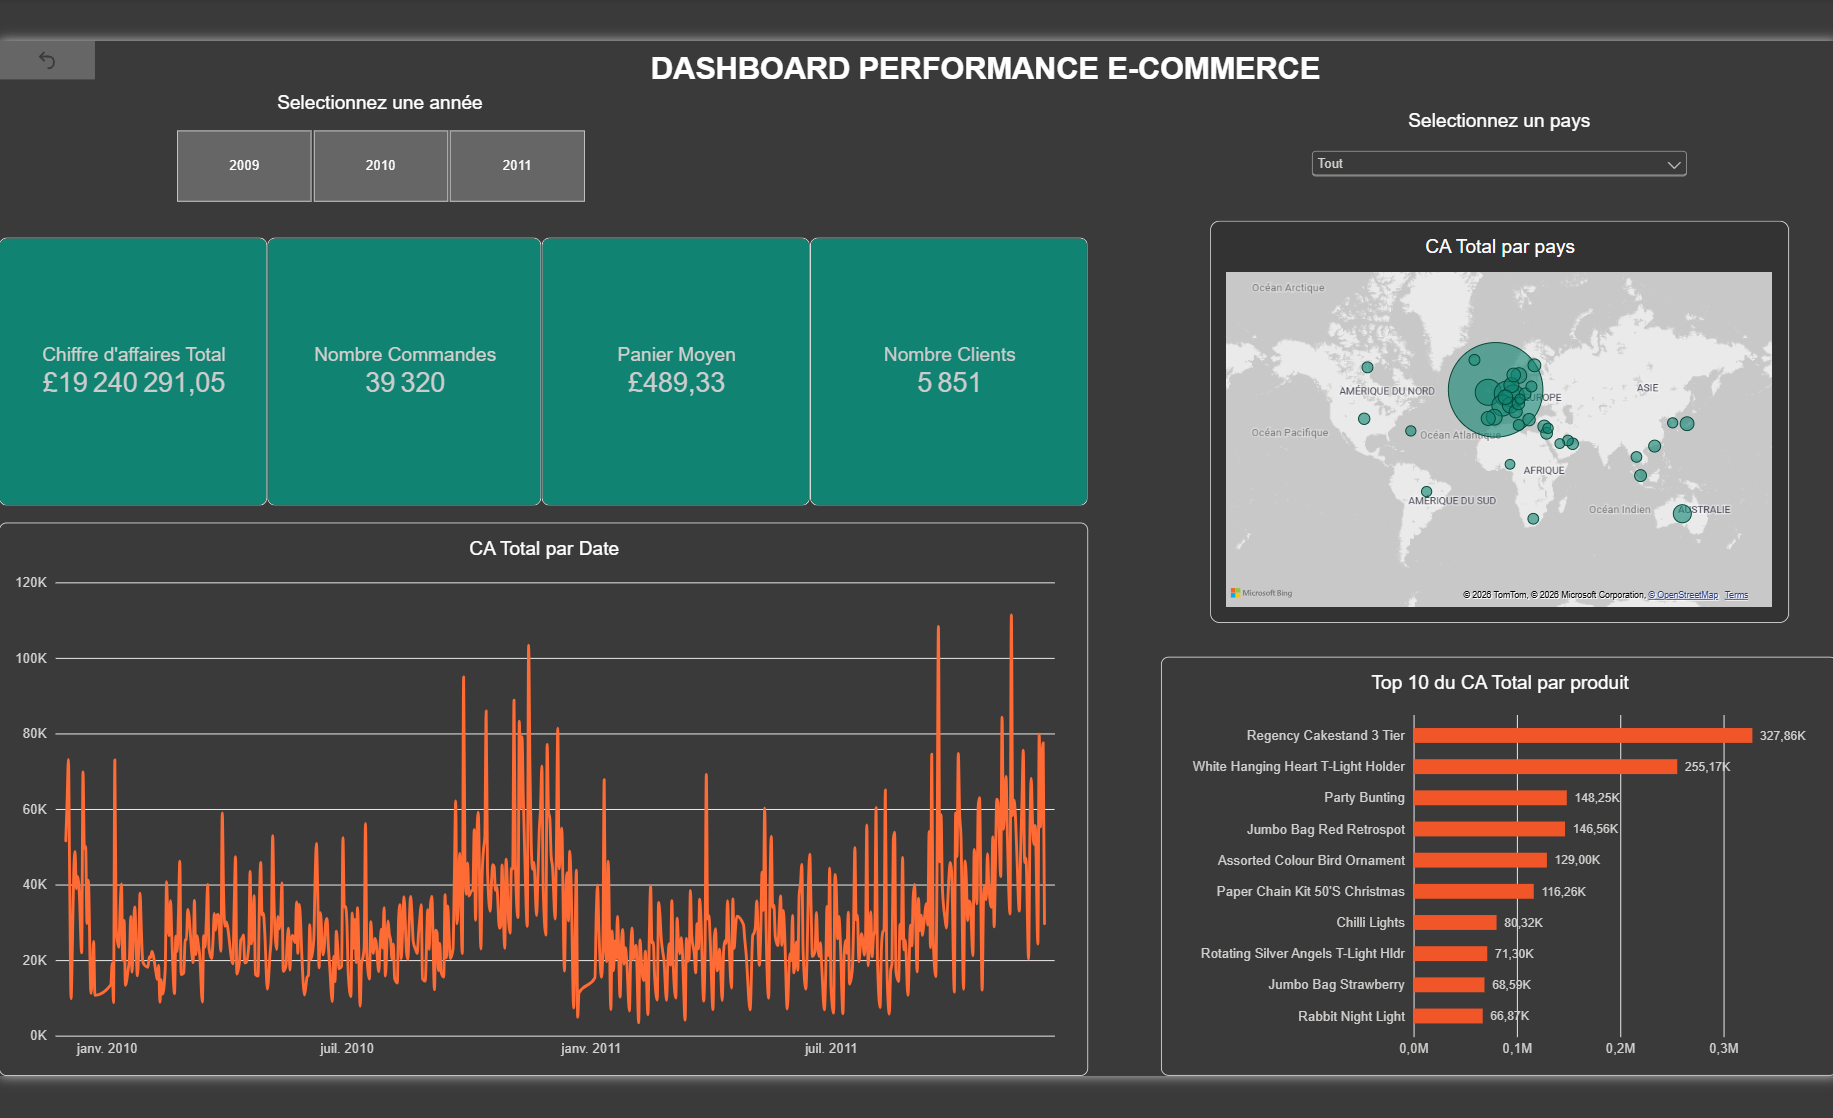

Layout of this report page (visuals, bound fields, positions):
{"tool":"powerbi","page":{"name":"Page 1","canvas":[1920,1080],"ordinal":0},"visuals":[{"type":"cardVisual","fields":{"Data":["ventes_clean.Chiffre d'affaires Total"]},"box":[0,205.1,280,280],"z":0},{"type":"cardVisual","fields":{"Data":["ventes_clean.Nombre Clients"]},"box":[846.6,205.1,290.1,280.1],"z":1000},{"type":"cardVisual","fields":{"Data":["ventes_clean.Nombre Commandes"]},"box":[280.1,205.1,286.4,280.1],"z":2000},{"type":"cardVisual","fields":{"Data":["ventes_clean.Panier Moyen"]},"box":[566.5,205.1,280,280],"z":3000},{"type":"lineChart","title":"CA Total par Date","fields":{"Y":["ventes_clean.CA Total"],"Category":["ventes_clean.DateSeul"]},"box":[0,502.7,1136.7,577.7],"z":4000},{"type":"textbox","box":[477.7,10,1104.2,51.3],"z":5000},{"type":"actionButton","box":[0,0,100,40],"z":6000},{"type":"slicer","title":"Selectionnez une année","fields":{"Values":["dim_date.Year"]},"box":[165.1,52.5,465.2,117.5],"z":7000},{"type":"map","title":"CA Total par pays","fields":{"Size":["ventes_clean.CA Total"],"Category":["ventes_clean.Country"]},"box":[1264.3,187.6,604,420.2],"z":8000},{"type":"barChart","title":"Top 10 du CA Total par produit","fields":{"Category":["ventes_clean.Description"],"Y":["ventes_clean.CA Total"]},"box":[1213,642.8,706.5,437.7],"z":9000},{"type":"slicer","title":"Selectionnez un pays","fields":{"Values":["ventes_clean.Country"]},"box":[1365.6,71.3,401.4,98.8],"z":10000}]}

Visuals, with their boxes on the page's 1920x1080 design canvas (x1, y1, x2, y2). These are canvas units, not pixel positions in the 1833x1118 screenshot, which may show the page scaled, cropped or inside an application window:
cardVisual - ventes_clean.Chiffre d'affaires Total: region(0, 205, 280, 485)
cardVisual - ventes_clean.Nombre Clients: region(847, 205, 1137, 485)
cardVisual - ventes_clean.Nombre Commandes: region(280, 205, 566, 485)
cardVisual - ventes_clean.Panier Moyen: region(566, 205, 846, 485)
"CA Total par Date" lineChart: region(0, 503, 1137, 1080)
textbox: region(478, 10, 1582, 61)
actionButton: region(0, 0, 100, 40)
"Selectionnez une année" slicer: region(165, 52, 630, 170)
"CA Total par pays" map: region(1264, 188, 1868, 608)
"Top 10 du CA Total par produit" barChart: region(1213, 643, 1920, 1080)
"Selectionnez un pays" slicer: region(1366, 71, 1767, 170)
